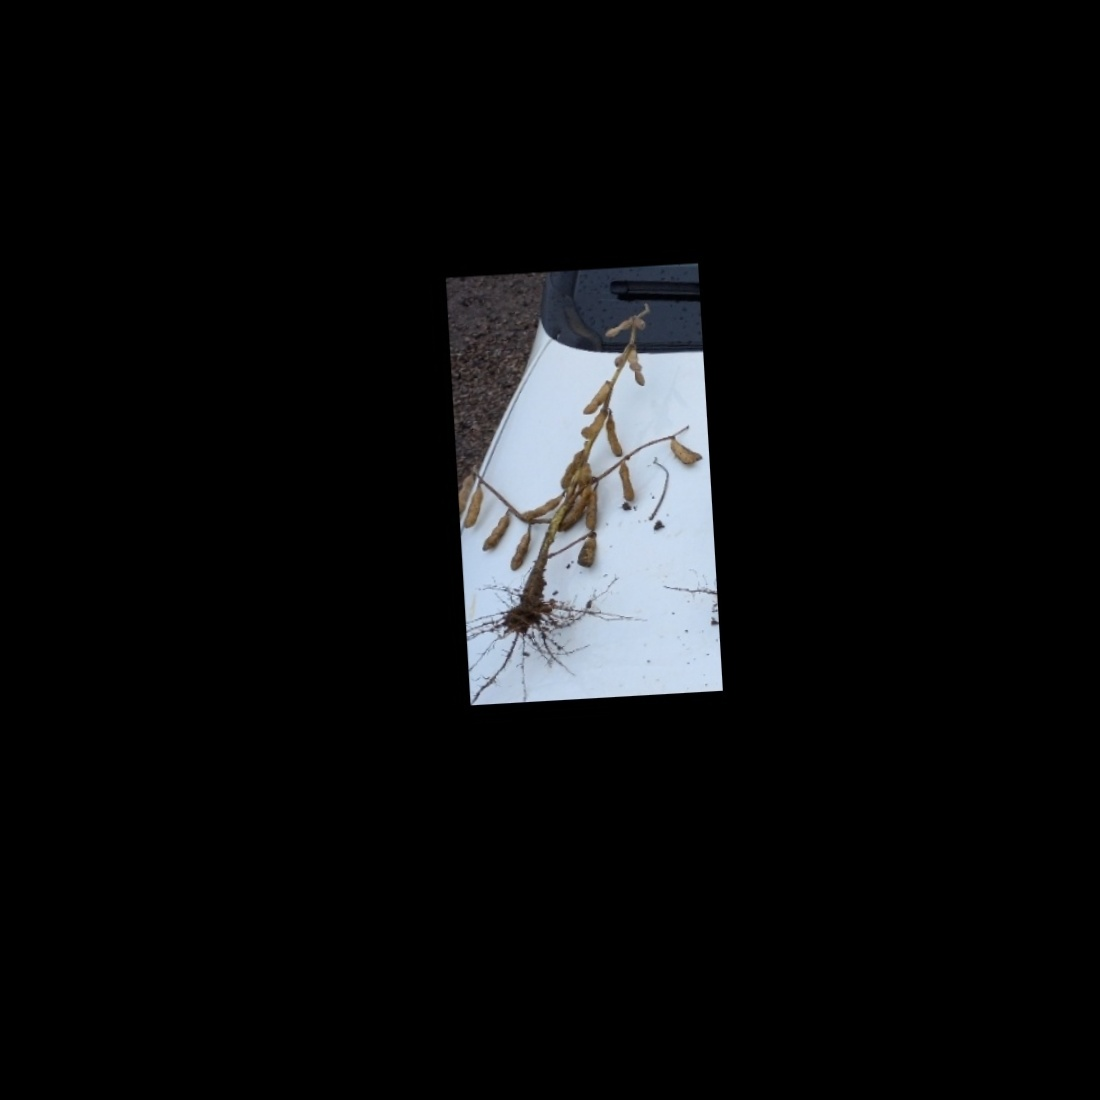pod: (461, 483, 493, 533), (504, 526, 536, 573), (479, 512, 512, 554), (579, 380, 612, 416), (520, 495, 563, 519), (603, 416, 625, 459), (583, 486, 602, 531), (627, 347, 647, 388), (577, 411, 607, 438), (617, 464, 637, 502), (602, 316, 632, 338)
soy: (446, 295, 715, 665)
